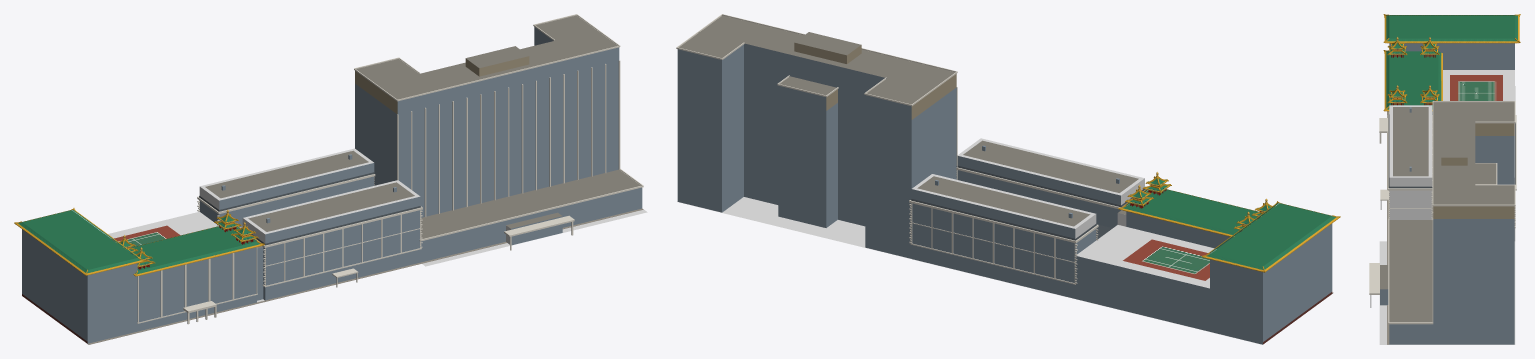
File: beijinghotel.glb
3 renders of one model, left to right at view 1: azimuth 30°, elevation 25°; view 2: azimuth 150°, elevation 25°; view 3: azimuth 270°, elevation 25°, orthographic. The views are drawn at different scales.
Visible parts, largest first — view 1: Massing, Hotel, COL_zlFront, COL_xilouBack, COL_zlBack, Pavilions, FOOTPRINT_east; view 2: Massing, Hotel, COL_xilouBack, FOOTPRINT_east, COL_zlBack, COL_zlFront, Pavilions; view 3: Hotel, Massing, COL_zlFront, Pavilions, FOOTPRINT_east, COL_xilouBack.
Part boxes in pixels (box(x1,y1,x2,y2)): Massing: box(23, 15, 642, 343); Hotel: box(14, 14, 643, 344); COL_zlFront: box(242, 180, 420, 243); COL_xilouBack: box(106, 211, 218, 238); COL_zlBack: box(199, 148, 373, 209); Pavilions: box(116, 209, 258, 267); FOOTPRINT_east: box(422, 208, 647, 266); Massing: box(677, 15, 1331, 344); Hotel: box(676, 14, 1340, 344); COL_xilouBack: box(1076, 225, 1216, 288); FOOTPRINT_east: box(677, 197, 910, 258); COL_zlBack: box(912, 174, 1096, 238); COL_zlFront: box(957, 138, 1144, 204); Pavilions: box(1125, 172, 1274, 230); Hotel: box(1369, 14, 1520, 344); Massing: box(1389, 15, 1514, 322); COL_zlFront: box(1389, 105, 1432, 219); Pavilions: box(1387, 37, 1439, 104); FOOTPRINT_east: box(1379, 241, 1515, 344); COL_xilouBack: box(1443, 70, 1514, 100).
Size of the model in its own units: 315 by 82.5 by 76.88.
23 materials, 5 textured.
